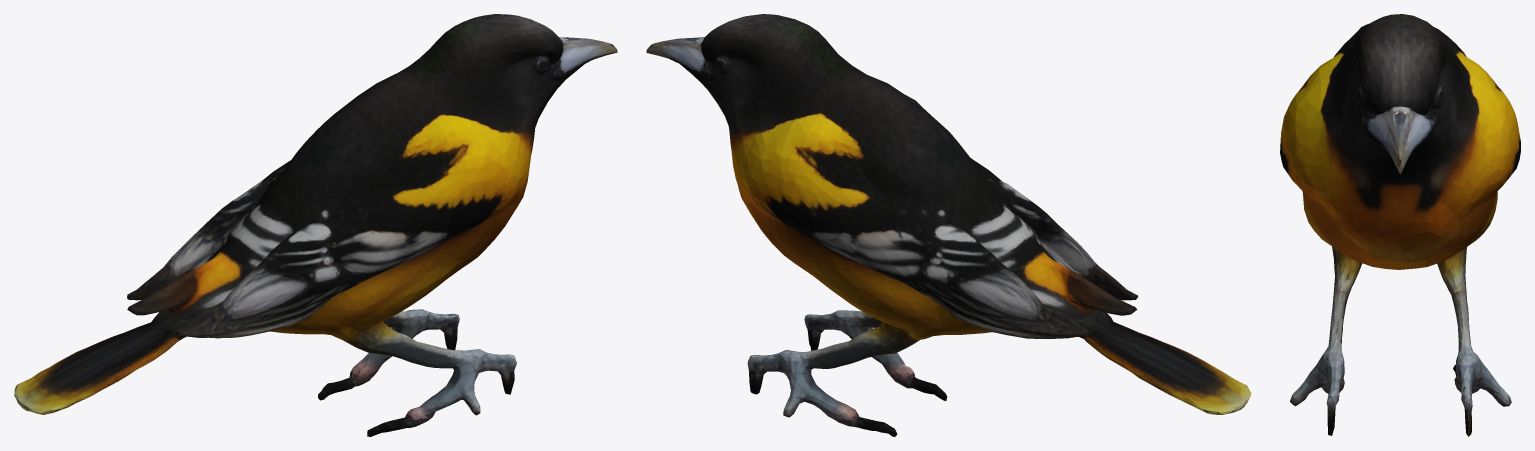
The model's file is birb.glb.
3 renders of one model, left to right at view 1: azimuth 30°, elevation 25°; view 2: azimuth 150°, elevation 25°; view 3: azimuth 270°, elevation 25°, orthographic. The views are drawn at different scales.
Parts seen in each view (by area): view 1: world; view 2: world; view 3: world.
Boxes of the visible parts, x1,y1,x2,y2 form: world: (14,14,617,436); world: (646,14,1251,436); world: (1280,14,1520,436).
Bounding box in the file's own units: 1 × 0.5836 × 0.2959.
Materials: 1 (1 with a texture image).
